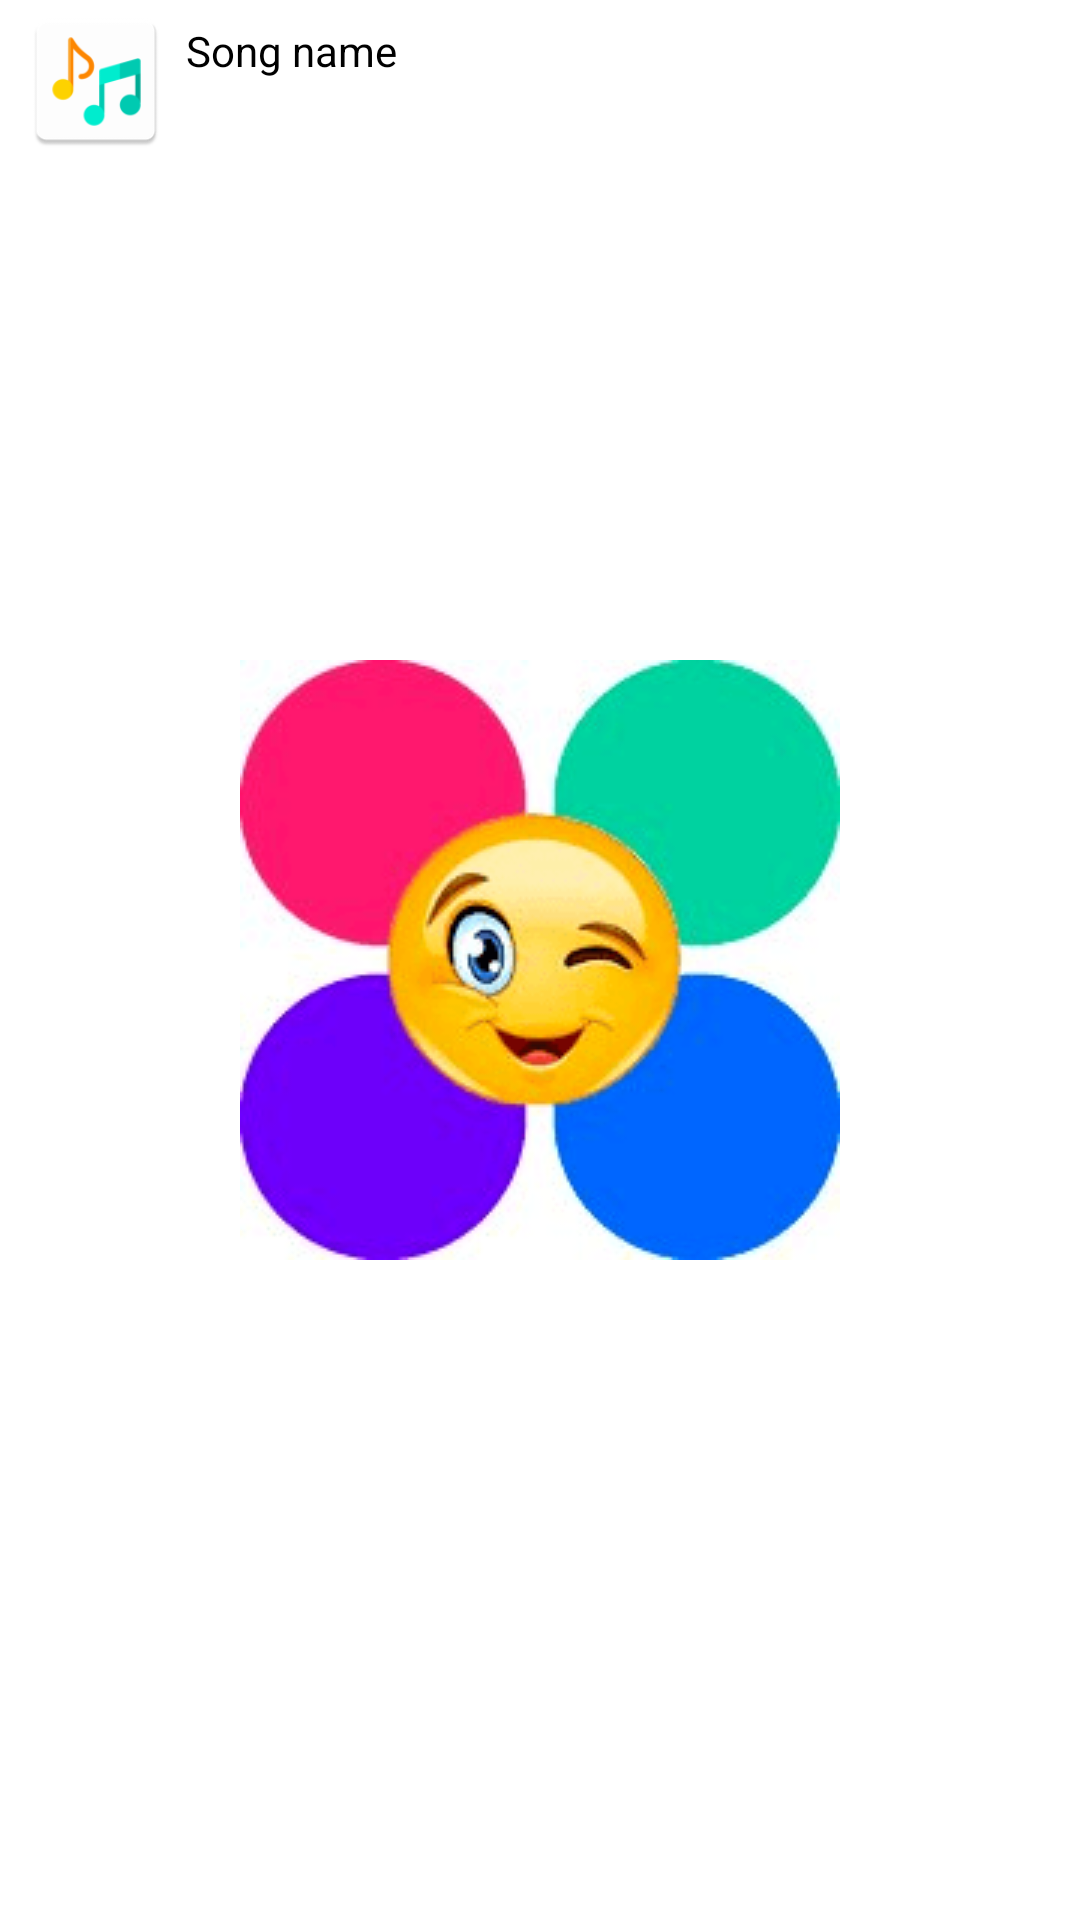

Icons on this 1080*1920 Android screen, each with the point to tap as [x,y]:
music player: [96,88]
